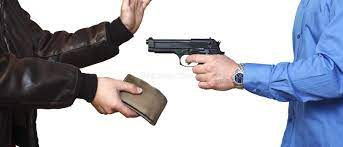gun: (143, 34, 226, 72)
